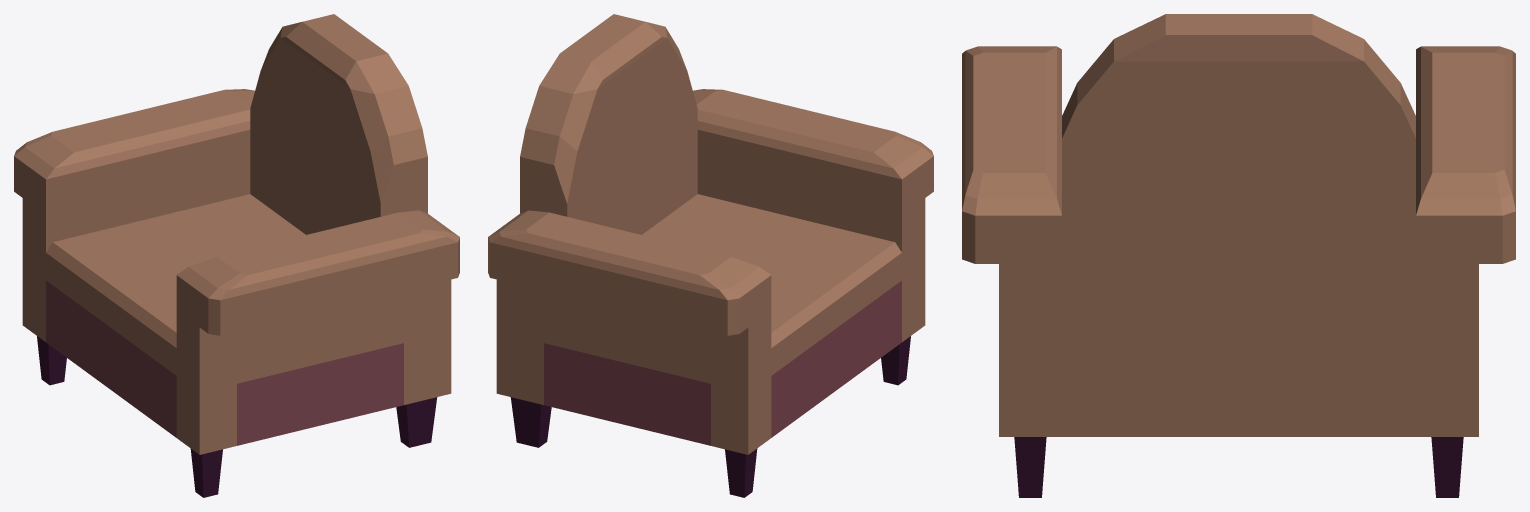
Rendered from Prop_Armchair_Beige.fbx.
3 renders of one model, left to right at view 1: azimuth 30°, elevation 25°; view 2: azimuth 150°, elevation 25°; view 3: azimuth 270°, elevation 25°, orthographic. The views are drawn at different scales.
Parts seen in each view (by area): view 1: Cube.202; view 2: Cube.202; view 3: Cube.202.
Part boxes in pixels (bbox=[...]): Cube.202: bbox=[14, 14, 459, 497]; Cube.202: bbox=[488, 14, 933, 497]; Cube.202: bbox=[962, 14, 1515, 497].
Bounding box in the file's own units: 65.5 × 86.29 × 92.14.
